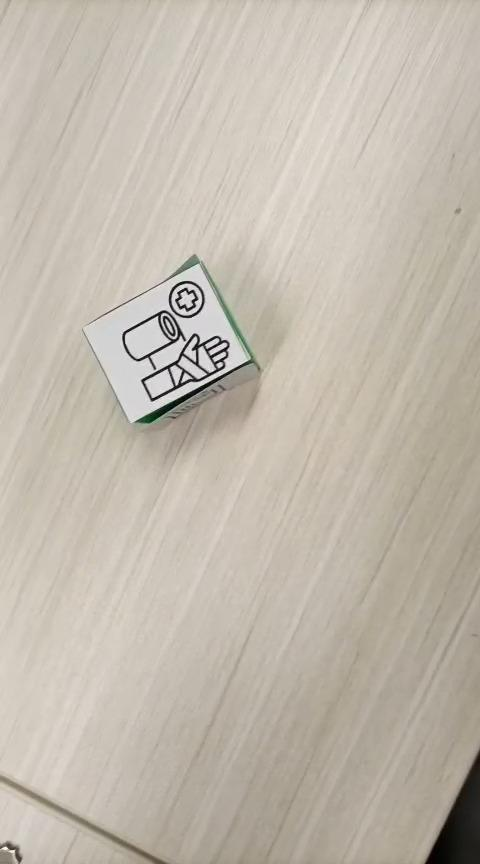Bandages: (81, 252, 261, 426)
